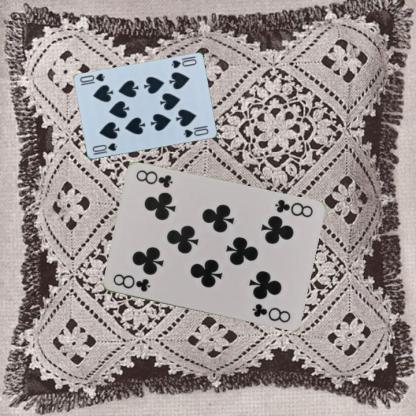10s: (89, 140, 118, 154), (168, 57, 198, 70)
8c: (272, 197, 314, 219), (110, 272, 151, 294)
